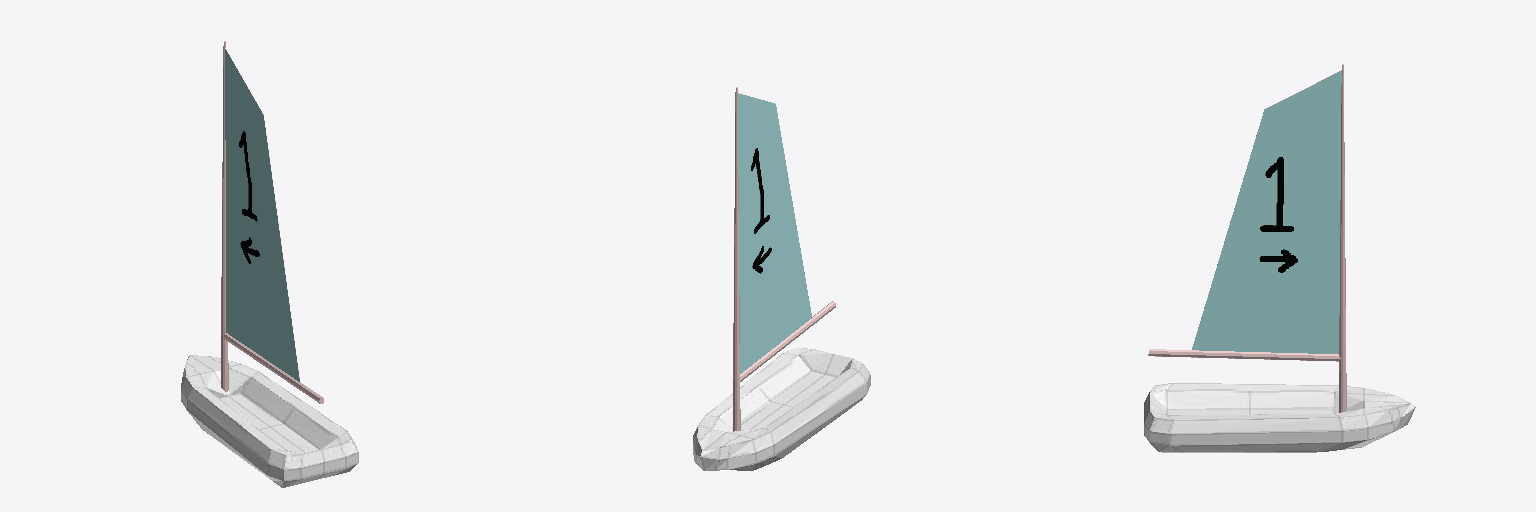
3 views of the same model, side by side, from view 1: azimuth 30°, elevation 25°; view 2: azimuth 150°, elevation 25°; view 3: azimuth 270°, elevation 25° (orthographic).
Visible parts, largest first — view 1: Cylinder_Cylinder.003, Cube_Cube.001; view 2: Cylinder_Cylinder.003, Cube_Cube.001; view 3: Cylinder_Cylinder.003, Cube_Cube.001.
Boxes of the visible parts, <box> form: Cylinder_Cylinder.003: <box>221,41,323,403</box>; Cube_Cube.001: <box>181,355,358,487</box>; Cylinder_Cylinder.003: <box>733,87,835,431</box>; Cube_Cube.001: <box>693,348,870,470</box>; Cylinder_Cylinder.003: <box>1148,64,1346,412</box>; Cube_Cube.001: <box>1144,383,1415,452</box>.
Bounding box in the file's own units: 2 × 8.39 × 5.39.
Materials: 2 (2 with a texture image).